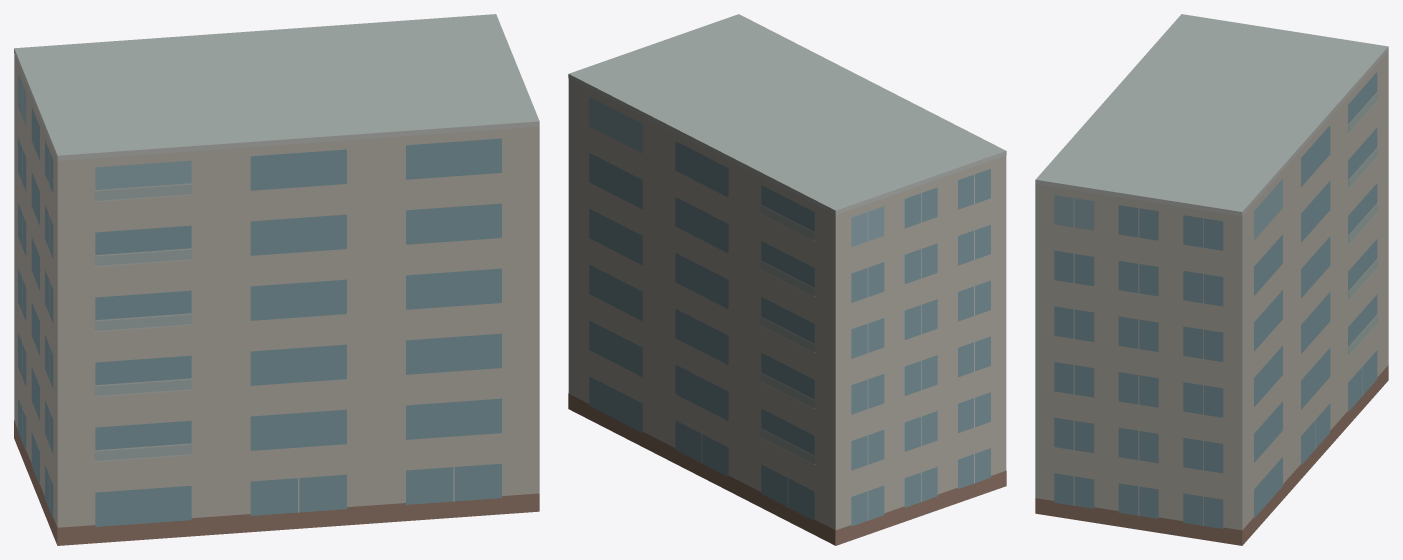
Rendered from survey-upis-32869530.glb.
The picture shows the model from 3 angles, left to right: view 1: azimuth 30°, elevation 25°; view 2: azimuth 150°, elevation 25°; view 3: azimuth 270°, elevation 25°; orthographic projection. The views are drawn at different scales.
Parts seen in each view (by area): view 1: survey-upis-32869530.tmp; view 2: survey-upis-32869530.tmp; view 3: survey-upis-32869530.tmp.
Part boxes in pixels (left/top/right/bottom): survey-upis-32869530.tmp: left=14, top=14, right=539, bottom=545; survey-upis-32869530.tmp: left=568, top=14, right=1006, bottom=545; survey-upis-32869530.tmp: left=1035, top=14, right=1388, bottom=545.
Bounding box in the file's own units: 23.28 × 18.3 × 17.55.
